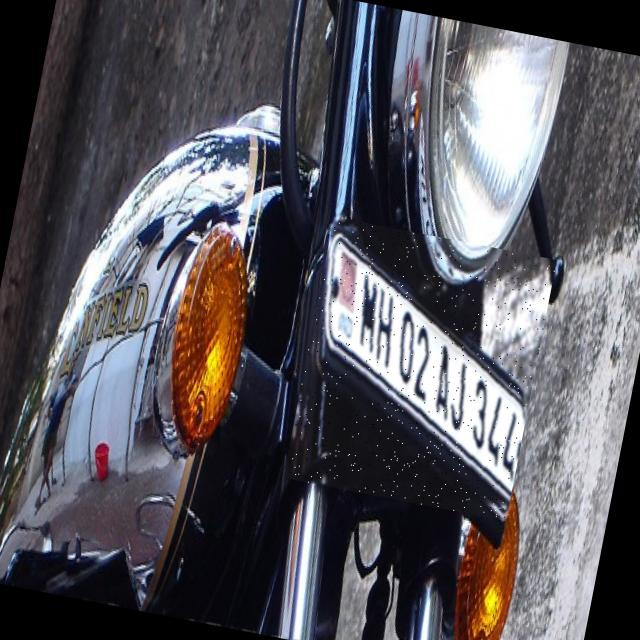Plate: (284, 218, 558, 522)
